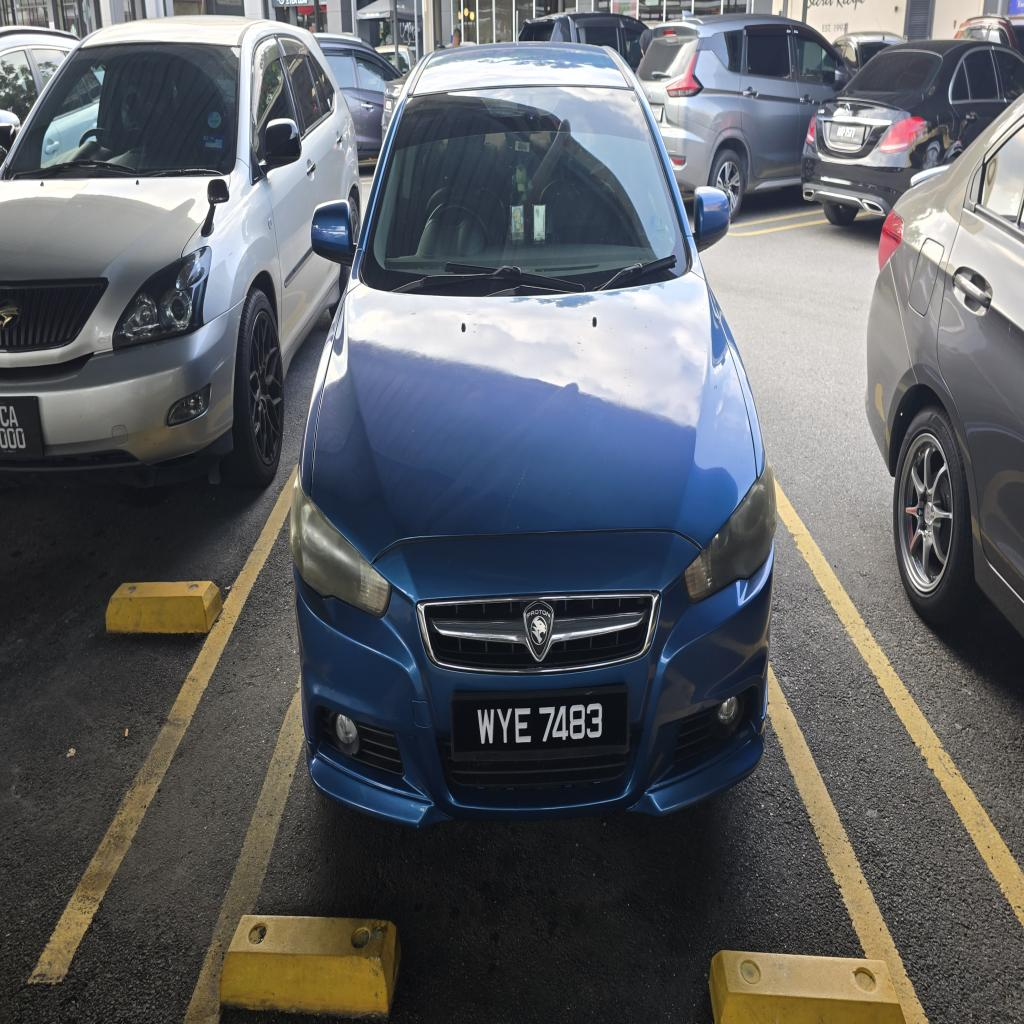car: (291, 44, 775, 825)
car plate: (451, 686, 628, 759)
